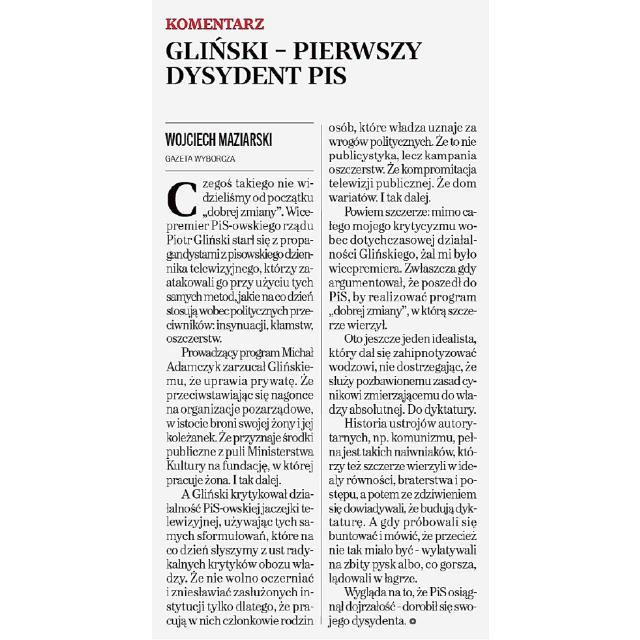author: (160, 126, 292, 154)
body: (325, 118, 489, 632), (158, 174, 320, 634)
title: (158, 34, 434, 94)
